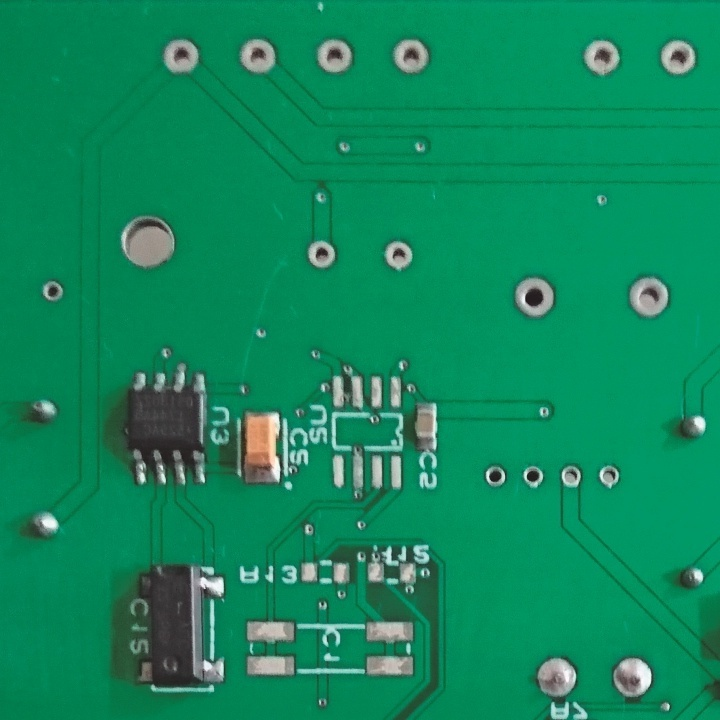F: (623, 271, 670, 322), (611, 652, 656, 703), (534, 651, 578, 698), (512, 274, 556, 320), (657, 34, 699, 80), (579, 35, 623, 78), (161, 36, 201, 78), (239, 34, 279, 73), (392, 35, 428, 75), (379, 236, 415, 274), (316, 39, 355, 72), (306, 242, 339, 270), (558, 460, 584, 491), (483, 460, 508, 491), (594, 463, 623, 489), (39, 278, 65, 306), (521, 463, 544, 489)
